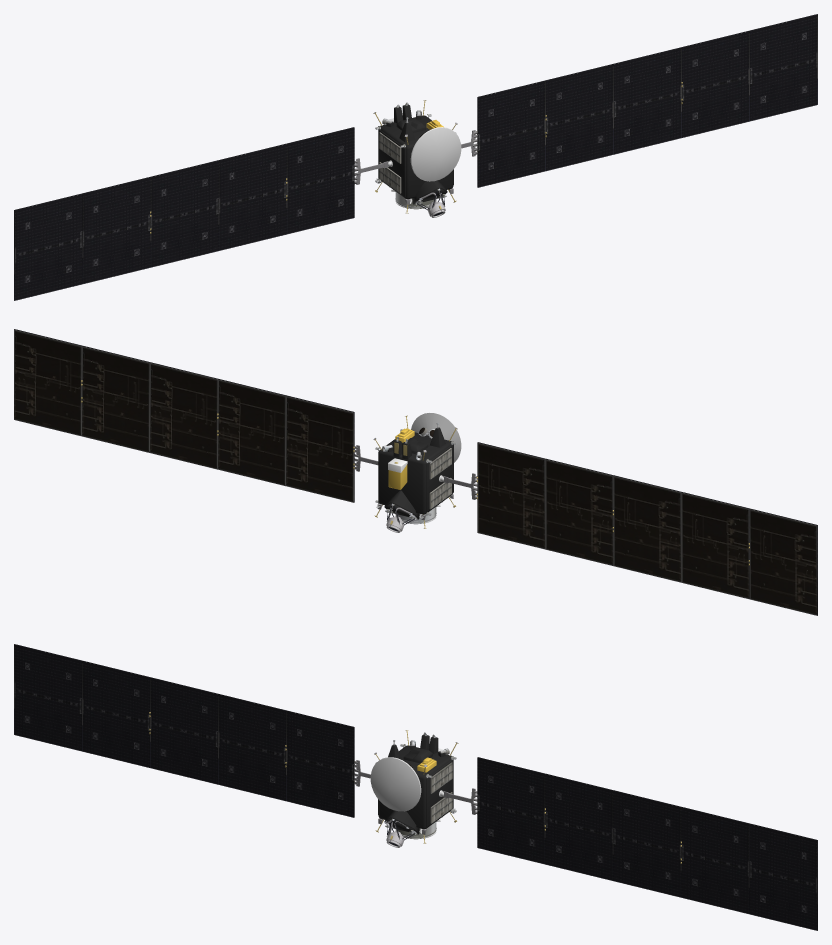
Rendered from dawn.glb.
The picture shows the model from 3 angles, top to bottom: view 1: azimuth 30°, elevation 25°; view 2: azimuth 150°, elevation 25°; view 3: azimuth 330°, elevation 25°; orthographic projection.
Parts seen in each view (by area): view 1: solar_panels, foil_silver_2, black_krinkle, BUS; view 2: solar_panels, BUS, black_krinkle, foil_silver_2, foil_gold; view 3: solar_panels, foil_silver_2, black_krinkle, BUS.
Boxes of the visible parts, x1,y1,x2,y2 form: solar_panels: [14, 14, 817, 300]; foil_silver_2: [410, 127, 461, 181]; black_krinkle: [378, 104, 453, 204]; BUS: [380, 115, 453, 199]; solar_panels: [14, 329, 817, 615]; BUS: [378, 432, 452, 514]; black_krinkle: [384, 427, 453, 519]; foil_silver_2: [411, 413, 461, 462]; foil_gold: [388, 428, 414, 489]; solar_panels: [14, 644, 817, 930]; foil_silver_2: [370, 757, 421, 811]; black_krinkle: [378, 734, 453, 834]; BUS: [378, 745, 451, 829].
Bounding box in the file's own units: 19.7 × 2.2 × 2.21.
7 materials, 2 textured.
